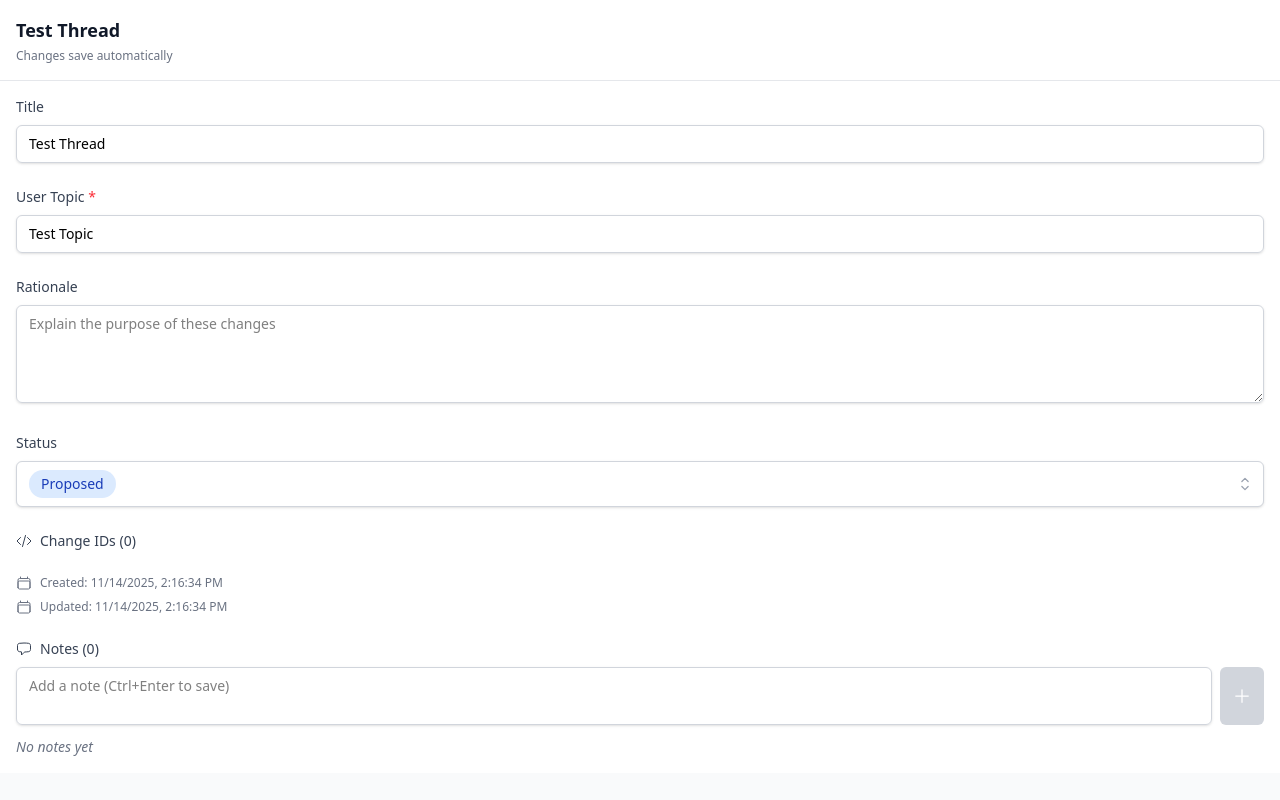
Test case: ThreadMetadataPanel › Notes management › allows adding a new note
Type a note
Type "This is a new note" into the text box with placeholder "Add a note (Ctrl+Enter to save)". click: coordinates (614, 696)
box: [16,667,1212,725]
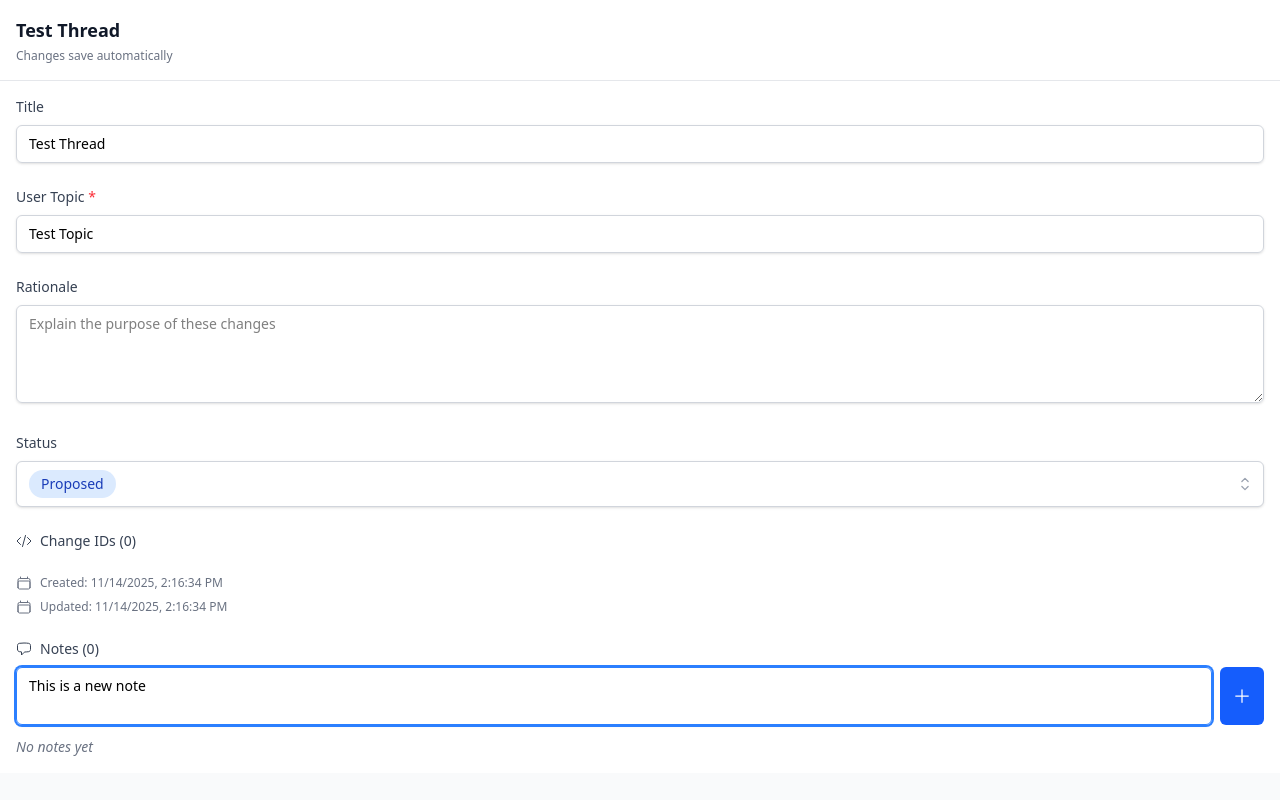
Click add button
Click the button titled "Add note". click: coordinates (1242, 696)
box: [1220,667,1264,725]
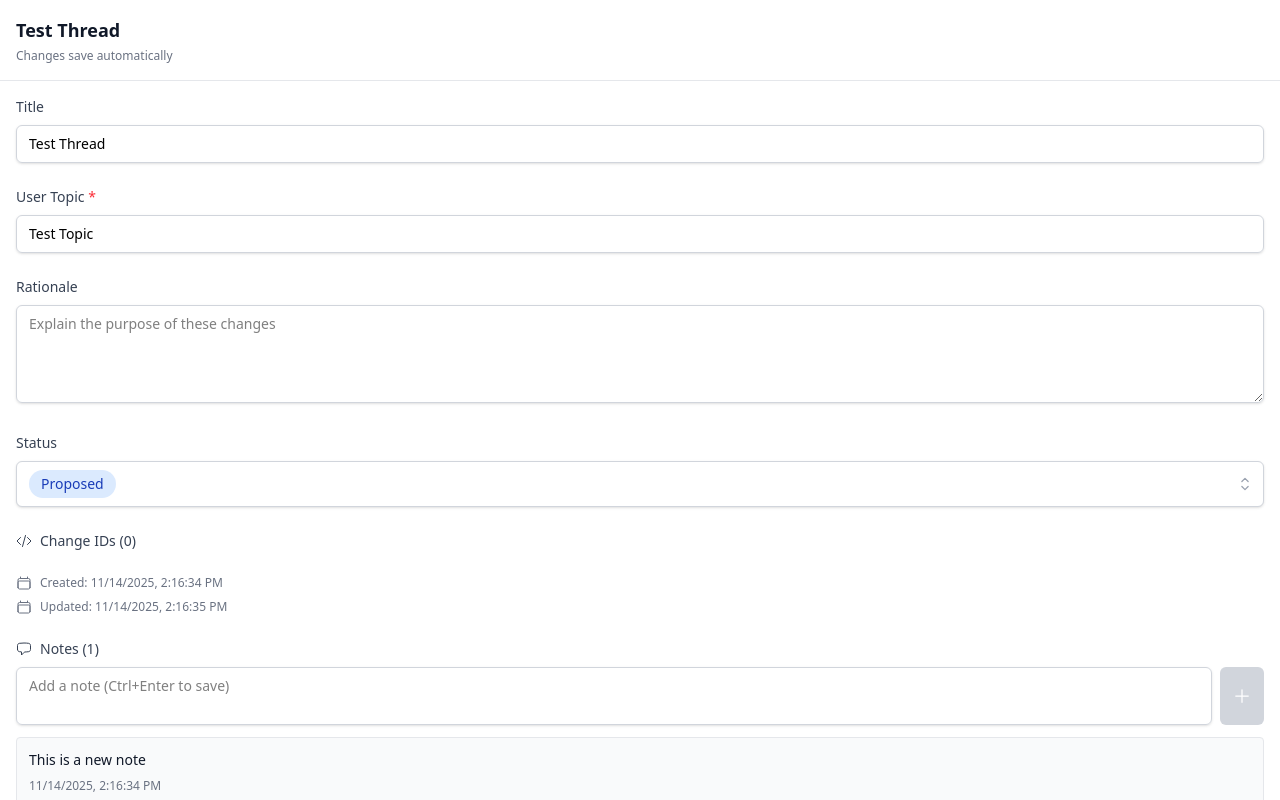
Expected: the text "This is a new note" is shown, [29,750,146,769]
Expected: the text box with placeholder "Add a note (Ctrl+Enter to save)" is empty, [16,667,1212,725]
